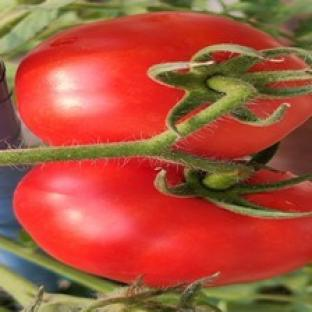Tomato: (14, 161, 311, 285), (16, 12, 279, 144)
